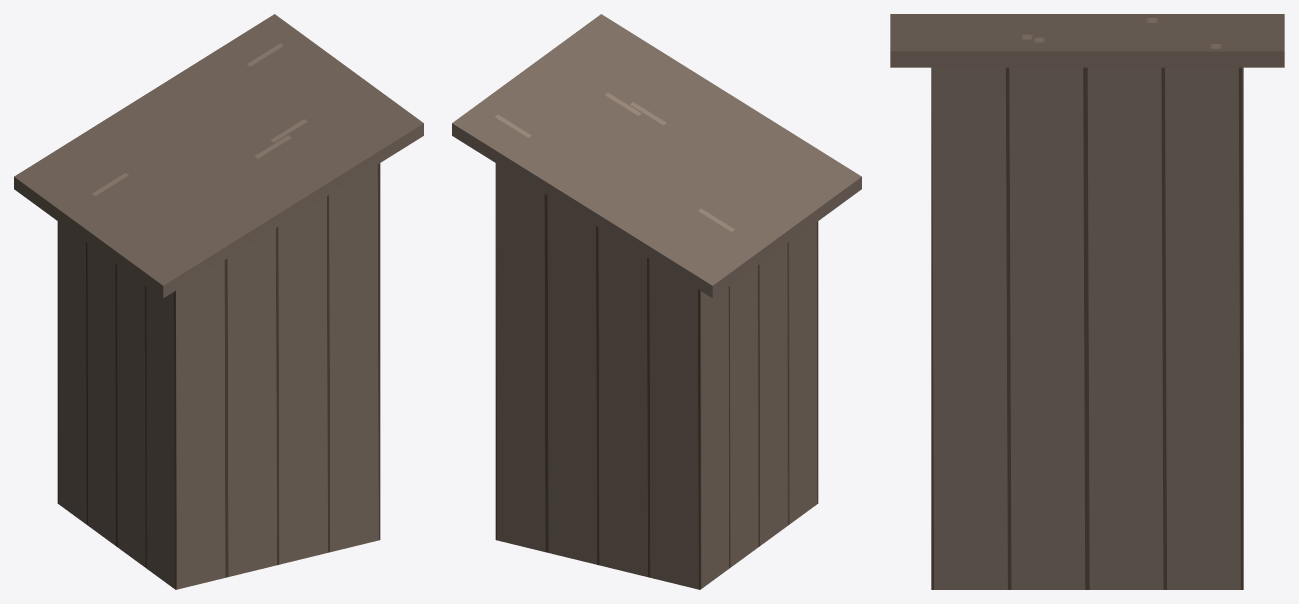
File: shed.glb
The picture shows the model from 3 angles, left to right: view 1: azimuth 30°, elevation 25°; view 2: azimuth 150°, elevation 25°; view 3: azimuth 270°, elevation 25°; orthographic projection. The views are drawn at different scales.
Visible parts, largest first — view 1: Object_3, Object_2; view 2: Object_3, Object_2; view 3: Object_3, Object_2.
Boxes of the visible parts, left/top/right/bottom form: Object_3: left=57, top=163, right=380, bottom=589; Object_2: left=14, top=14, right=423, bottom=298; Object_3: left=495, top=163, right=818, bottom=589; Object_2: left=452, top=14, right=861, bottom=298; Object_3: left=931, top=67, right=1243, bottom=589; Object_2: left=890, top=14, right=1284, bottom=67.
Size of the model in its own units: 1.51 by 2.34 by 1.5.
2 materials, 2 textured.
